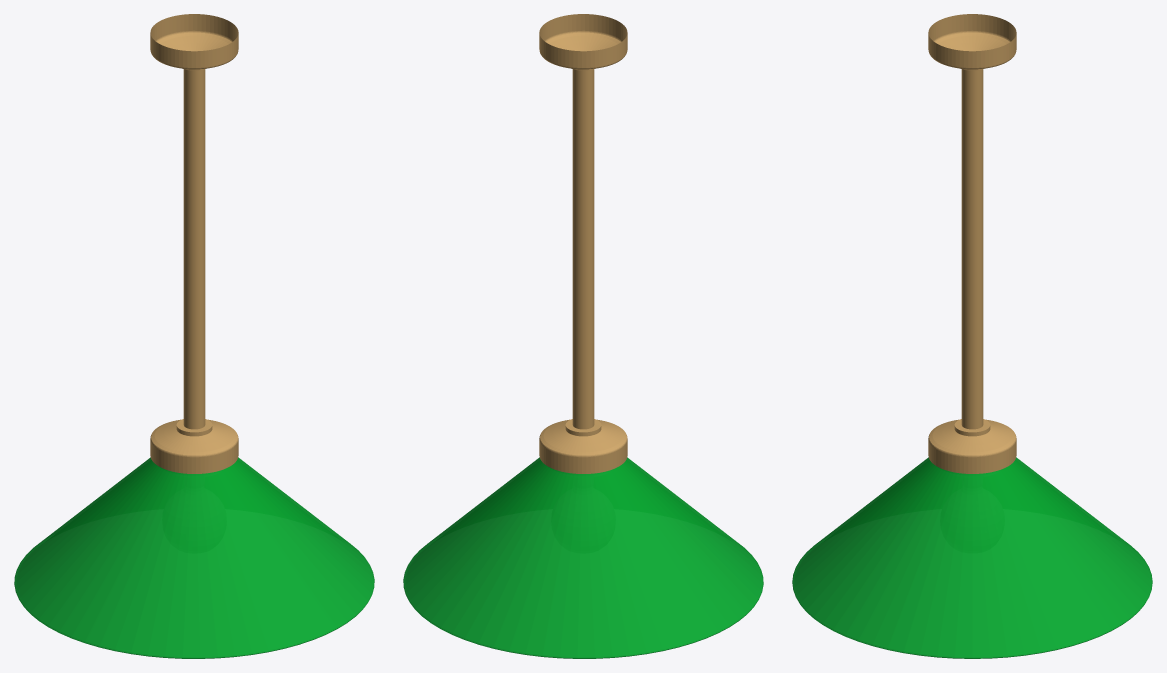
File: hanging-restaurant-light.obj
3 renders of one model, left to right at view 1: azimuth 30°, elevation 25°; view 2: azimuth 150°, elevation 25°; view 3: azimuth 270°, elevation 25°, orthographic.
Parts seen in each view (by area): view 1: Circle; view 2: Circle; view 3: Circle.
Part boxes in pixels (<box>): Circle: <box>14,14,374,658</box>; Circle: <box>403,14,763,658</box>; Circle: <box>792,14,1152,658</box>.
Size of the model in its own units: 3.93 by 6.63 by 3.93.
